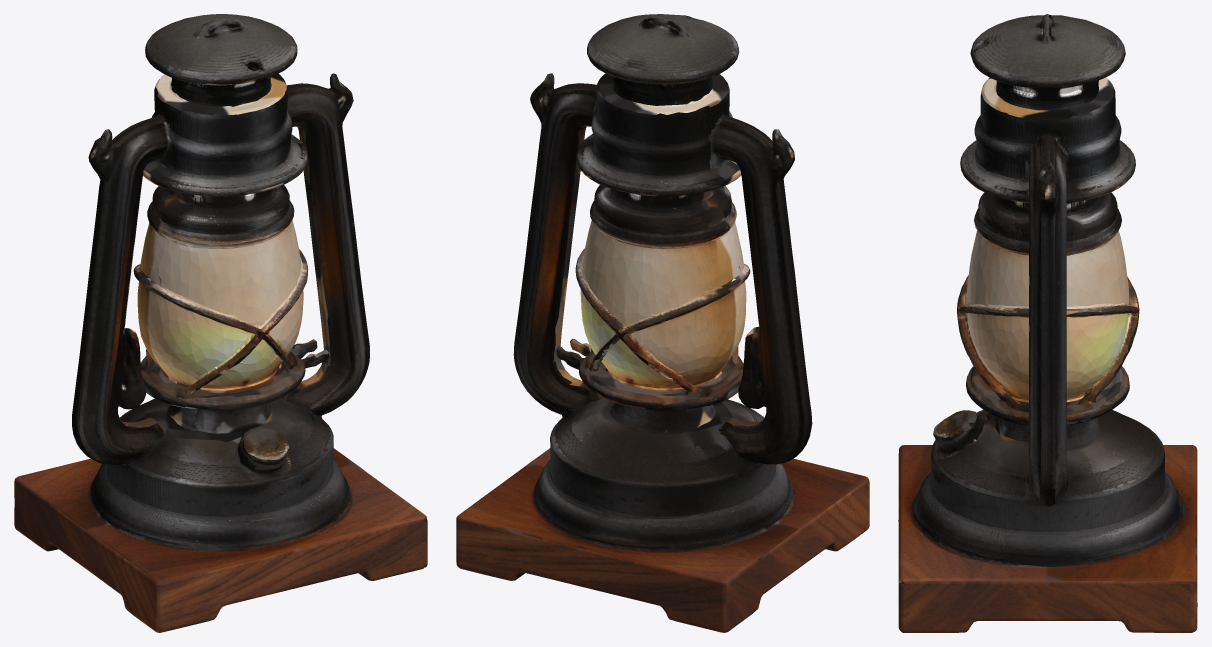
File: traveler_env_coast_hida_cell_iron_lamp_00001_.glb
3 views of the same model, side by side, from view 1: azimuth 30°, elevation 25°; view 2: azimuth 150°, elevation 25°; view 3: azimuth 270°, elevation 25° (orthographic). The views are drawn at different scales.
Visible parts, largest first — view 1: temp_mesh.ply; view 2: temp_mesh.ply; view 3: temp_mesh.ply.
Boxes of the visible parts, x1=… form: temp_mesh.ply: x1=14, y1=14, x2=427, y2=632; temp_mesh.ply: x1=456, y1=14, x2=869, y2=632; temp_mesh.ply: x1=898, y1=14, x2=1197, y2=632.
Bounding box in the file's own units: 1.07 × 1.83 × 0.9093.
Materials: 1 (1 with a texture image).
